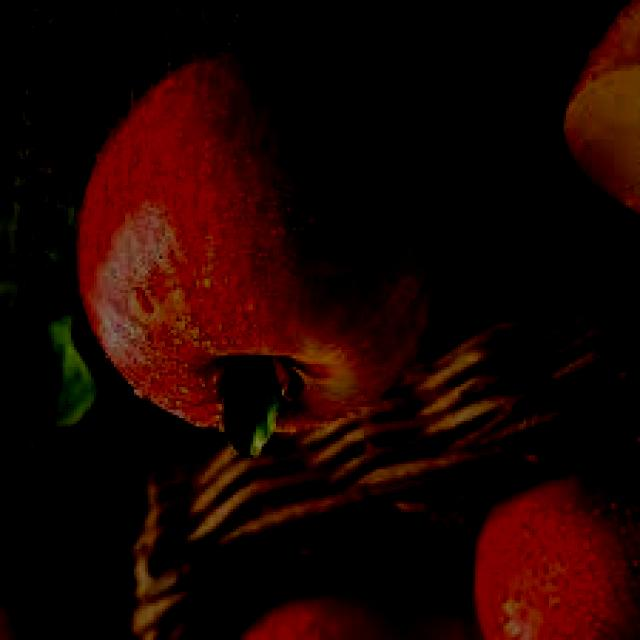Apple: (73, 42, 450, 460), (467, 437, 640, 640), (215, 547, 470, 640)
